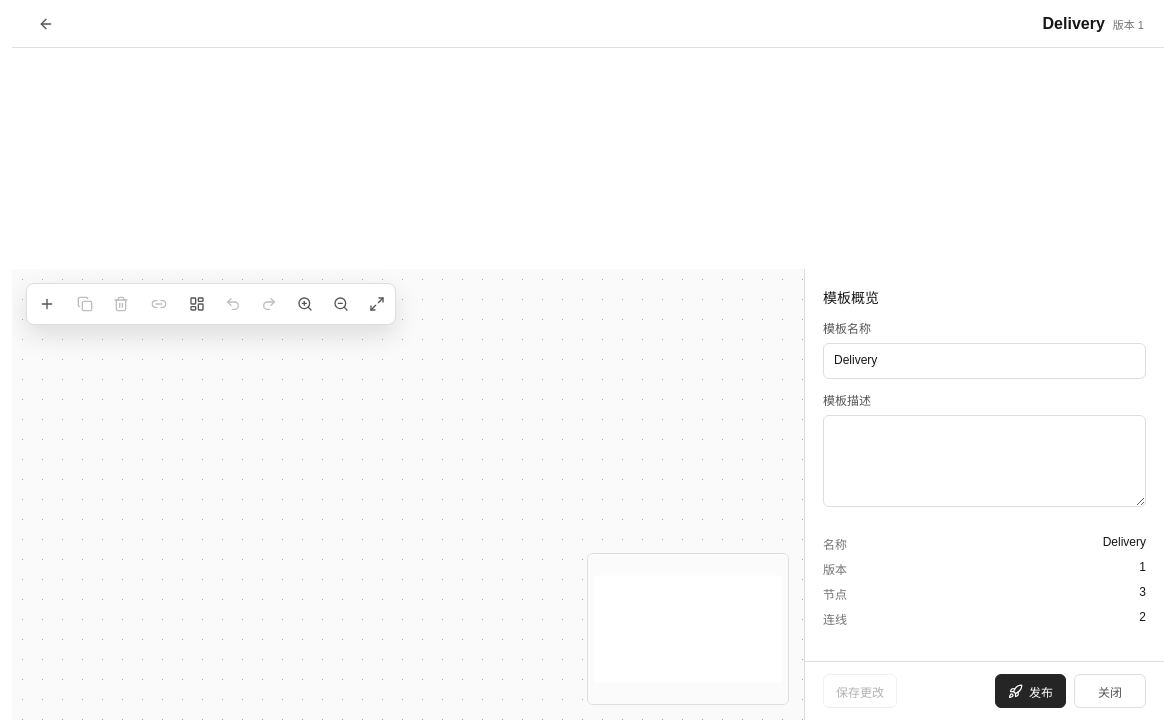
WorkflowTemplateCanvasPage › focuses the node selected from publication issues
The image size is (1164, 720).
Click the button "发布" at (1030, 691), box [995,674,1066,708]
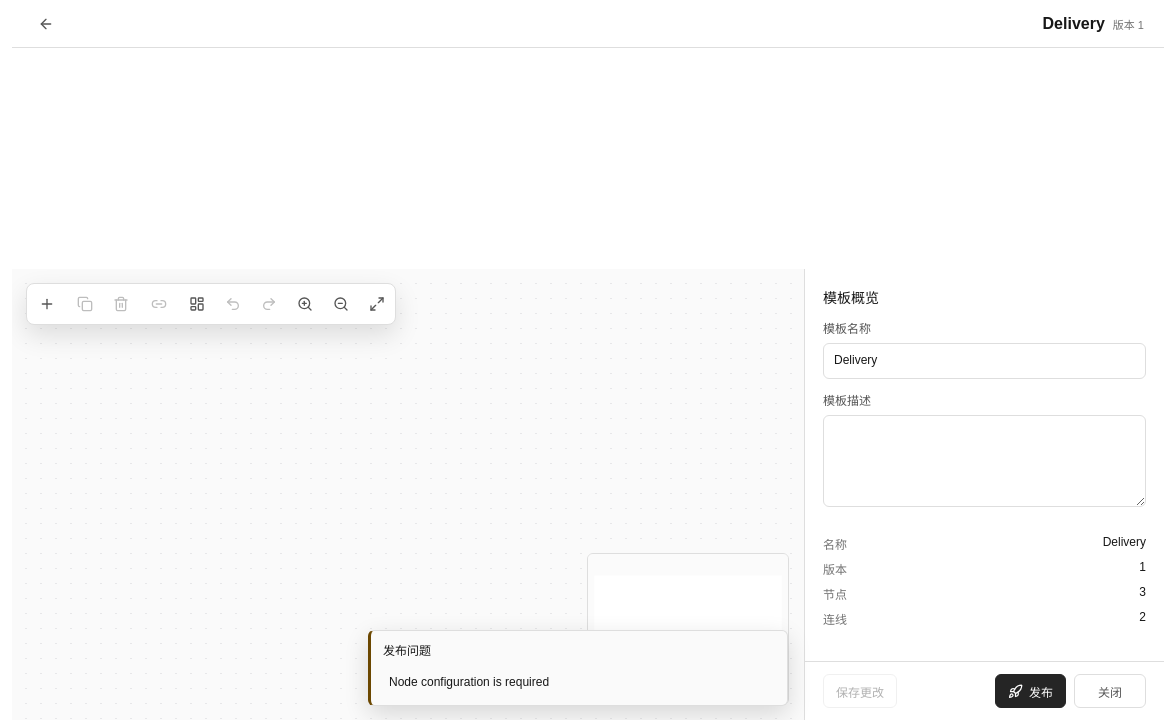
Check: the message "Node configuration is required" is shown, box [368,630,788,706]
Click the button "Node configuration is required" at (469, 682), box [383,669,555,695]
(page scrolled)
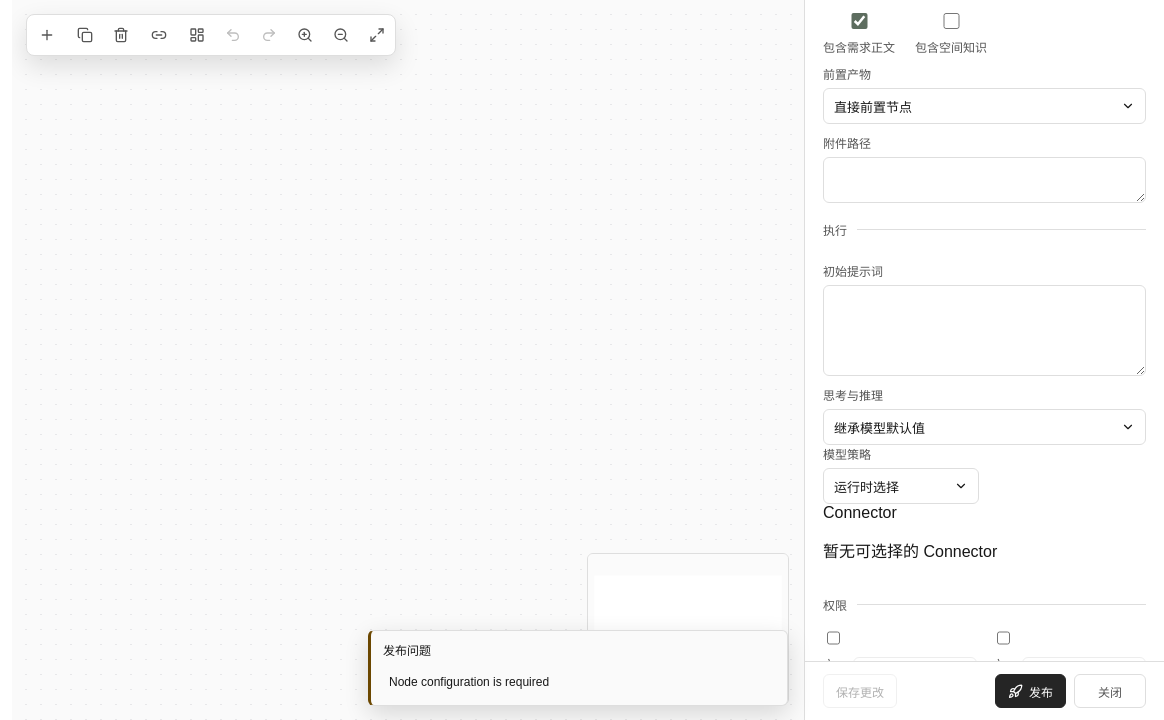
Check: the text box labelled "初始提示词" is shown, box [823,285,1146,376]
